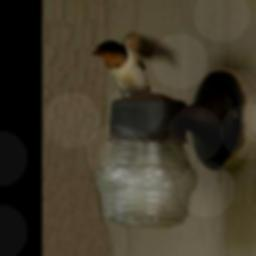Swallow: (91, 30, 179, 97)
